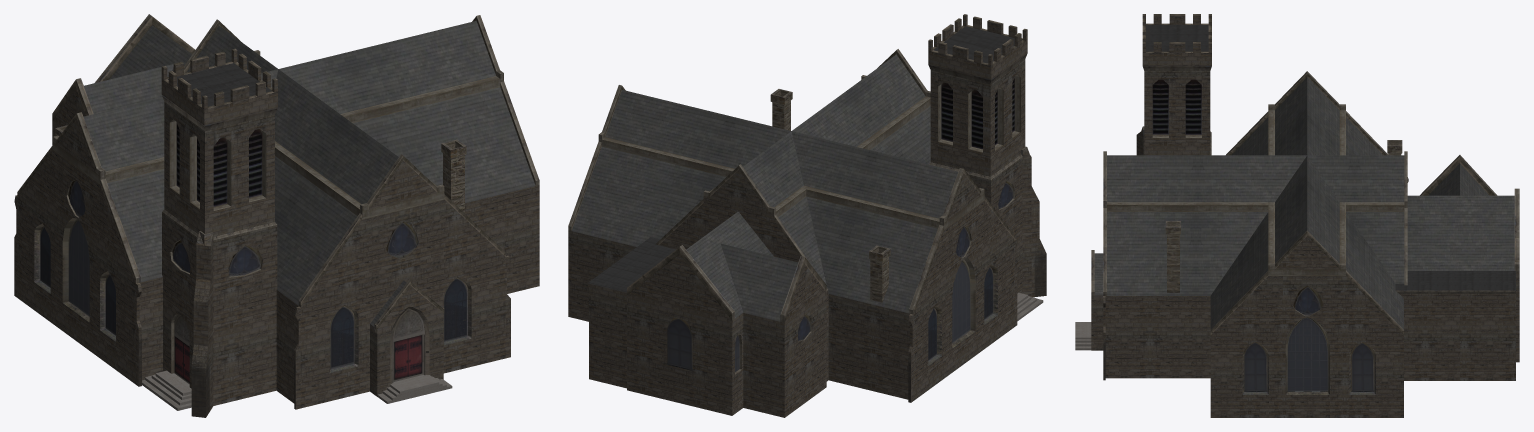
File: inglesiaglb.glb
3 views of the same model, side by side, from view 1: azimuth 30°, elevation 25°; view 2: azimuth 150°, elevation 25°; view 3: azimuth 270°, elevation 25° (orthographic). The views are drawn at different scales.
Visible parts, largest first — view 1: Object_2; view 2: Object_2; view 3: Object_2.
Boxes of the visible parts, x1=… form: Object_2: x1=14, y1=14, x2=539, y2=417; Object_2: x1=568, y1=14, x2=1046, y2=417; Object_2: x1=1075, y1=14, x2=1519, y2=417.
Bounding box in the file's own units: 2600 × 1913 × 3035.
Materials: 1 (1 with a texture image).
